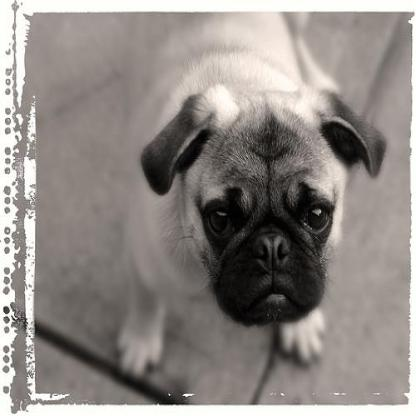pug: (111, 12, 387, 379)
